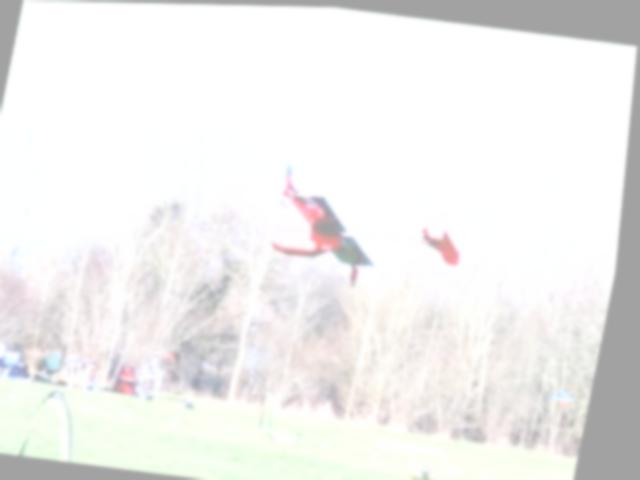uav: (237, 152, 489, 306)
